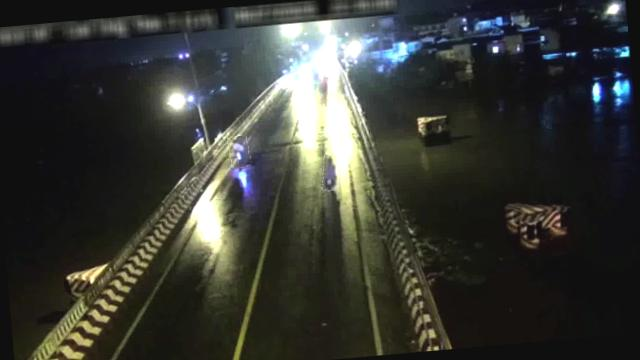Bike: (322, 154, 342, 192), (228, 135, 250, 169)
